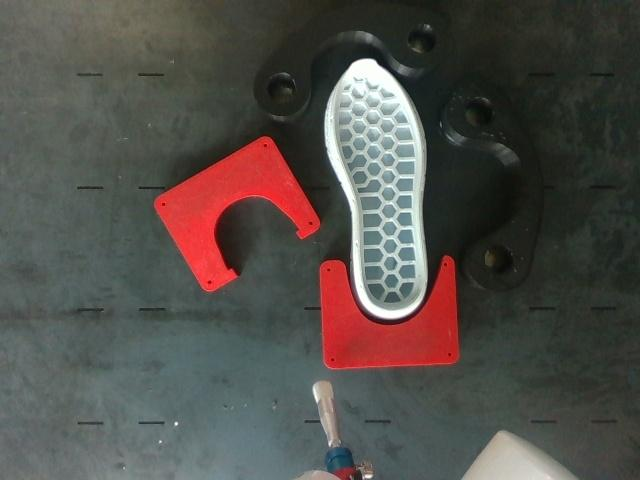shoes: (334, 60, 425, 311)
